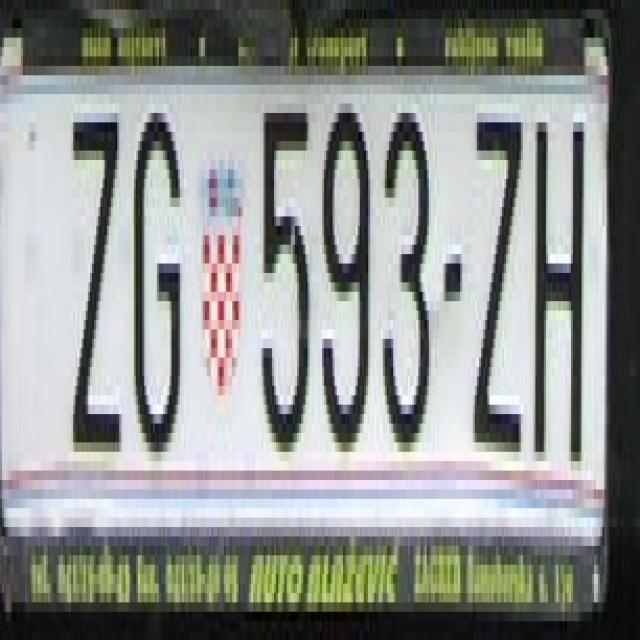3: (381, 94, 428, 452)
5: (255, 94, 310, 452)
9: (322, 104, 372, 452)
G: (134, 94, 180, 452)
H: (531, 85, 586, 461)
Z: (471, 94, 525, 461), (71, 104, 121, 452)
